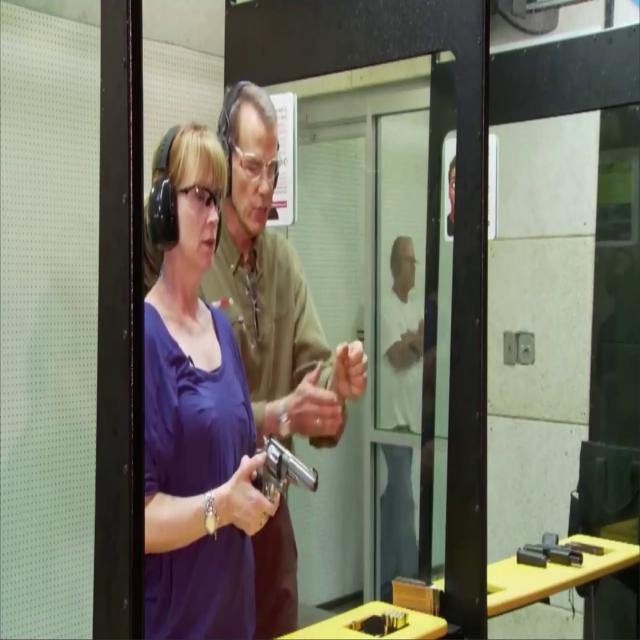Gun: (249, 432, 320, 525)
